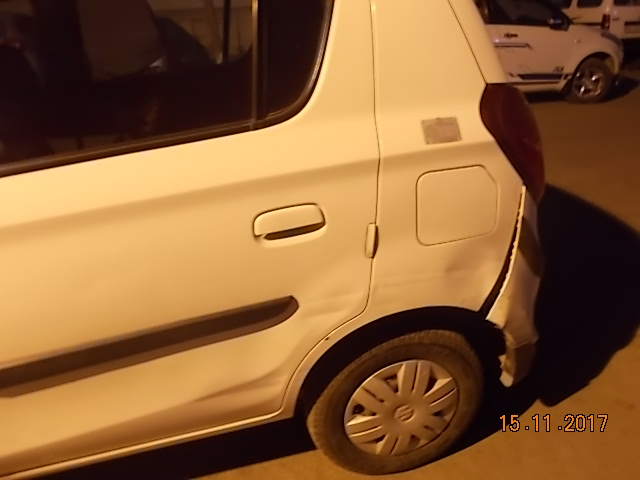Dislocation: (475, 242, 517, 319)
